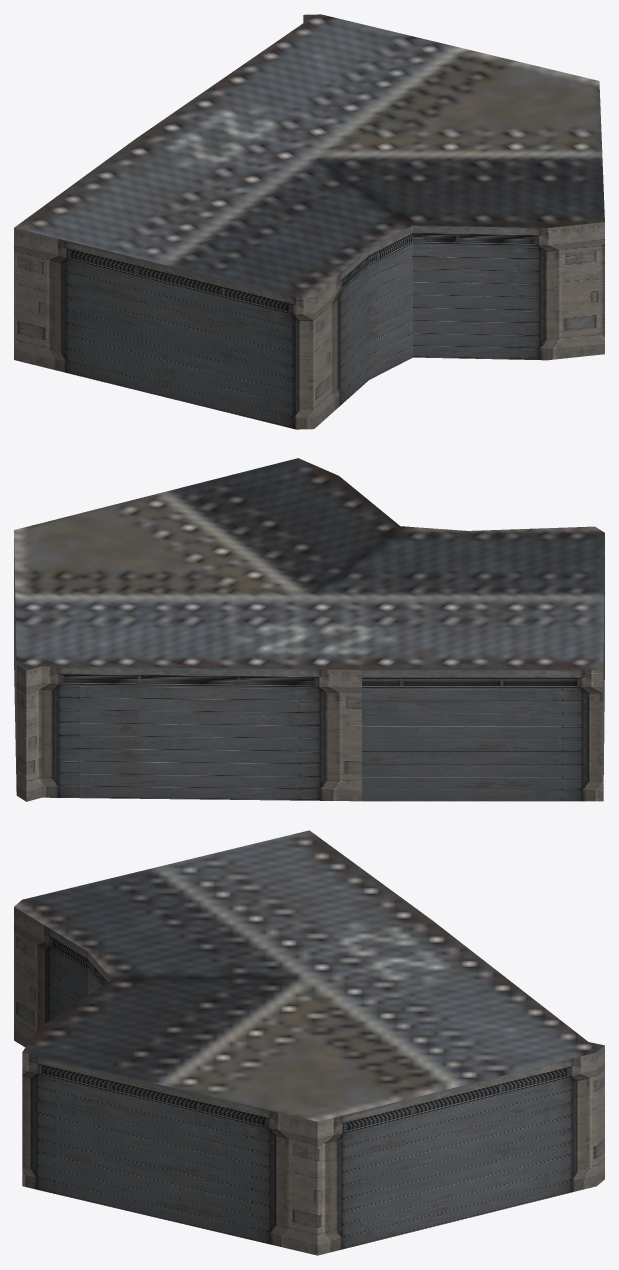
File: hangar_heavy_22.glb
The picture shows the model from 3 angles, top to bottom: view 1: azimuth 30°, elevation 25°; view 2: azimuth 150°, elevation 25°; view 3: azimuth 270°, elevation 25°; orthographic projection.
Parts seen in each view (by area): view 1: buildings/saxarba/hangar_heavy/hangar_heavy_22; view 2: buildings/saxarba/hangar_heavy/hangar_heavy_22; view 3: buildings/saxarba/hangar_heavy/hangar_heavy_22.
Boxes of the visible parts, left/top/right/bottom form: buildings/saxarba/hangar_heavy/hangar_heavy_22: left=14, top=14, right=604, bottom=429; buildings/saxarba/hangar_heavy/hangar_heavy_22: left=14, top=458, right=604, bottom=801; buildings/saxarba/hangar_heavy/hangar_heavy_22: left=14, top=830, right=604, bottom=1255.
Bounding box in the file's own units: 84 × 18 × 72.
